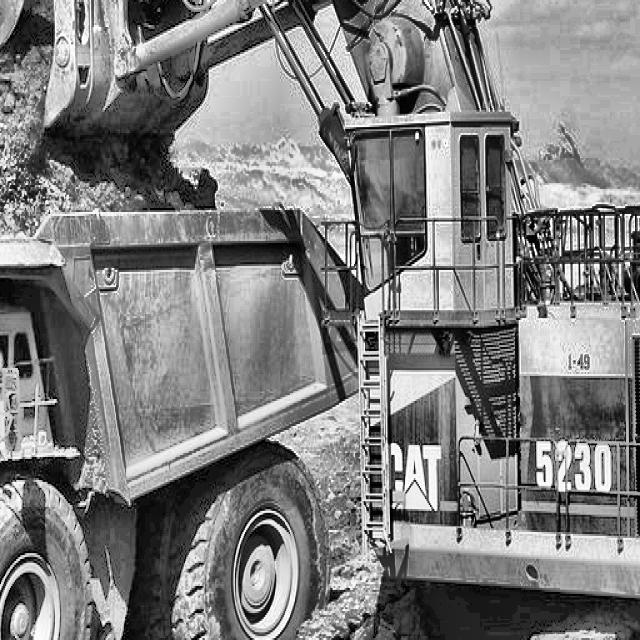dump_truck: (0, 112, 381, 640)
excavator: (0, 0, 640, 640)
